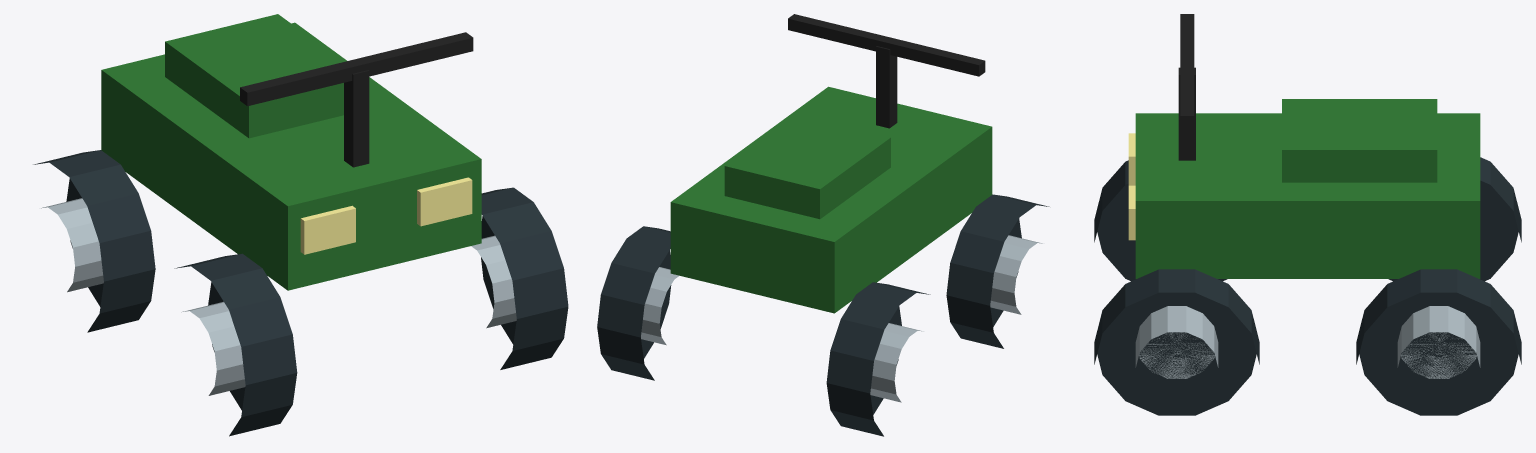
Rendered from fyrhjuling.glb.
3 views of the same model, side by side, from view 1: azimuth 30°, elevation 25°; view 2: azimuth 150°, elevation 25°; view 3: azimuth 270°, elevation 25° (orthographic). The views are drawn at different scales.
Visible parts, largest first — view 1: fyrhjuling; view 2: fyrhjuling; view 3: fyrhjuling.
Part boxes in pixels (x1,y1,x2,y2): fyrhjuling: (33, 14, 568, 436); fyrhjuling: (597, 14, 1049, 436); fyrhjuling: (1094, 14, 1521, 415).
Size of the model in its own units: 1.04 by 0.964 by 1.24.
